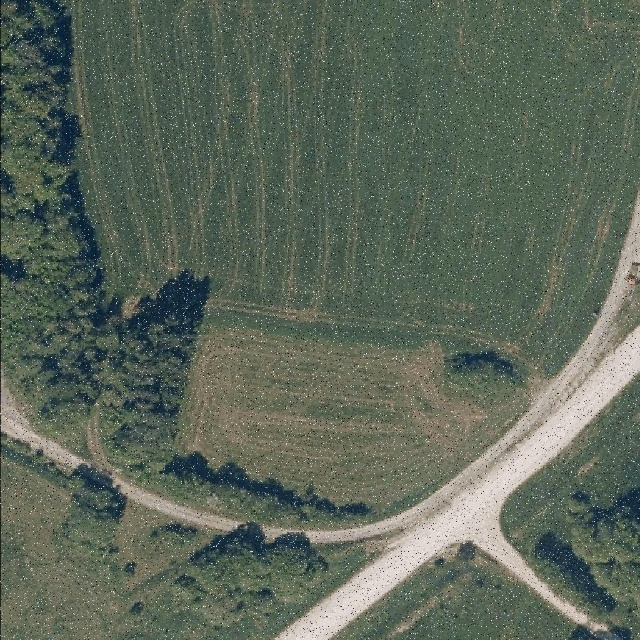vegetation: (2, 1, 365, 522), (173, 530, 320, 617), (567, 501, 638, 600), (63, 475, 122, 558), (534, 553, 611, 614), (450, 356, 514, 393)
